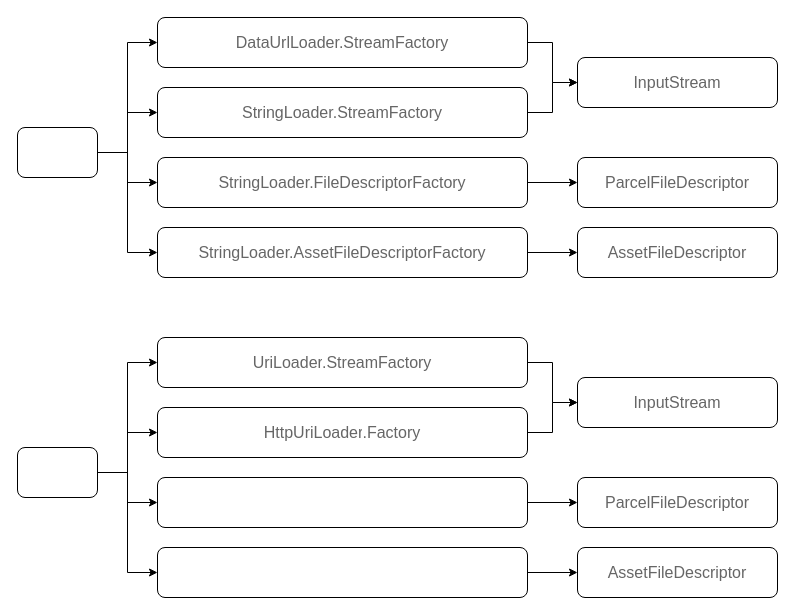
This 795x615 diagram has some shape labels left out. Here are the shapes that lost their labels. From the top down, the box of each, then its label:
(16, 126, 98, 178): String
(16, 446, 98, 498): Uri
(156, 476, 528, 528): UriLoader . FileDescriptorFactory
(156, 546, 528, 598): UriLoader . AssetFileDescriptorFactory
